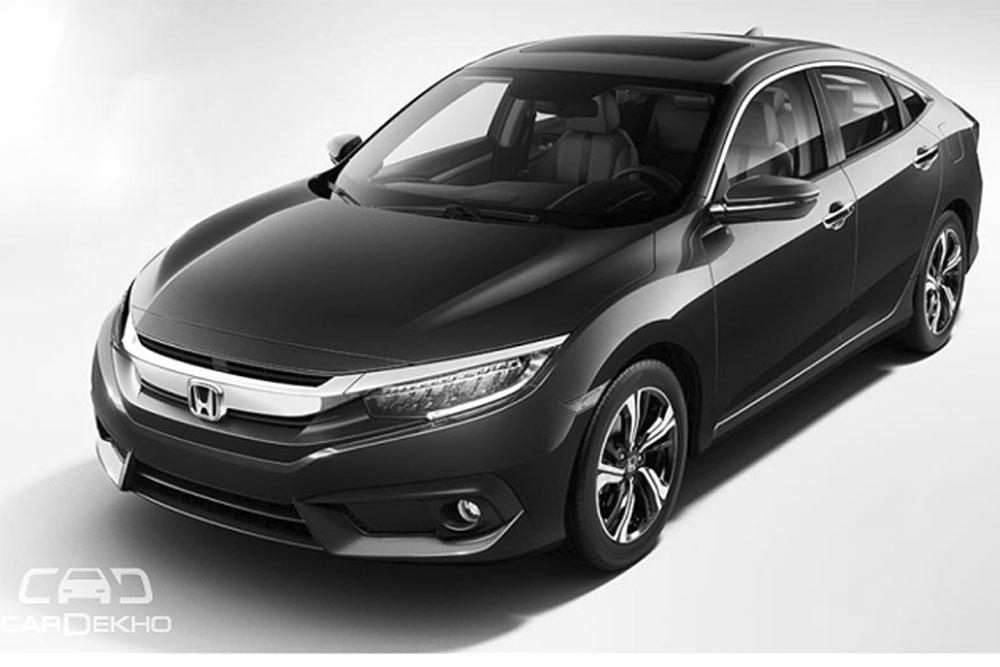Car hood: (127, 173, 656, 376)
Fender - -F-L-: (525, 193, 719, 452)
Fender - -R-L-: (909, 116, 972, 313)
Front bumper: (74, 370, 592, 576)
Headlight - -L-: (357, 334, 568, 429)
Passenger-s door - -F-L-: (719, 58, 856, 423)
Passenger-s door - -R-L-: (825, 56, 947, 366)
Rear bumper: (958, 196, 989, 277)
Rear light - -L-: (952, 94, 988, 142)
Side bumper - -L-: (686, 272, 920, 463)
Side mirror - -L-: (694, 166, 821, 249)
Side mirror - -R-: (319, 126, 376, 184)
